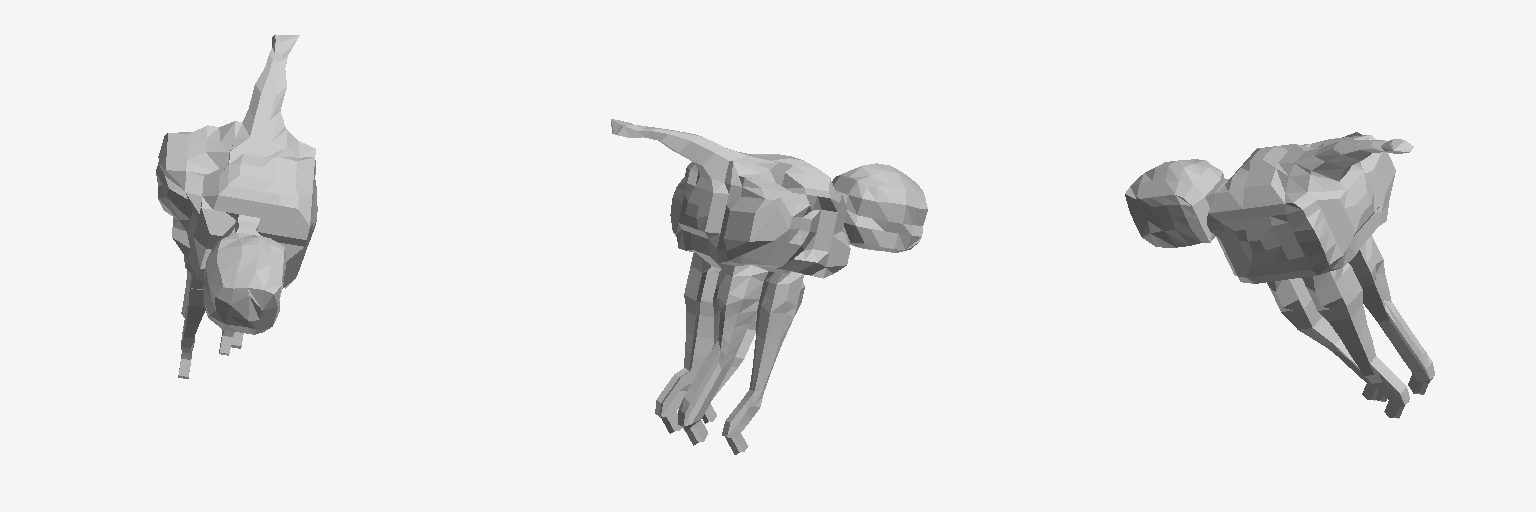
Rendered from dog.obj.
The picture shows the model from 3 angles: view 1: azimuth 30°, elevation 25°; view 2: azimuth 150°, elevation 25°; view 3: azimuth 270°, elevation 25°; orthographic projection.
Parts seen in each view (by area): view 1: Cube.004; view 2: Cube.004; view 3: Cube.004.
Boxes of the visible parts, x1,y1,x2,y2 form: Cube.004: [156, 34, 317, 378]; Cube.004: [611, 119, 927, 454]; Cube.004: [1125, 132, 1434, 418].
Size of the model in its own units: 29.8 by 44.12 by 39.85.